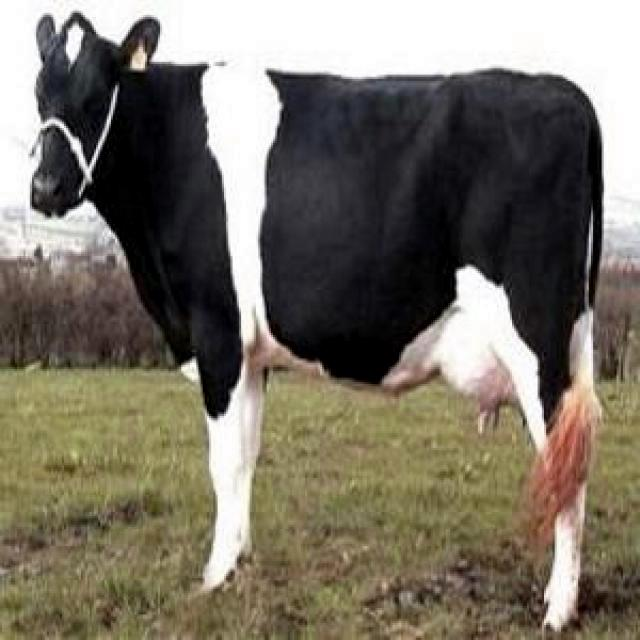COW: (31, 12, 602, 628)
